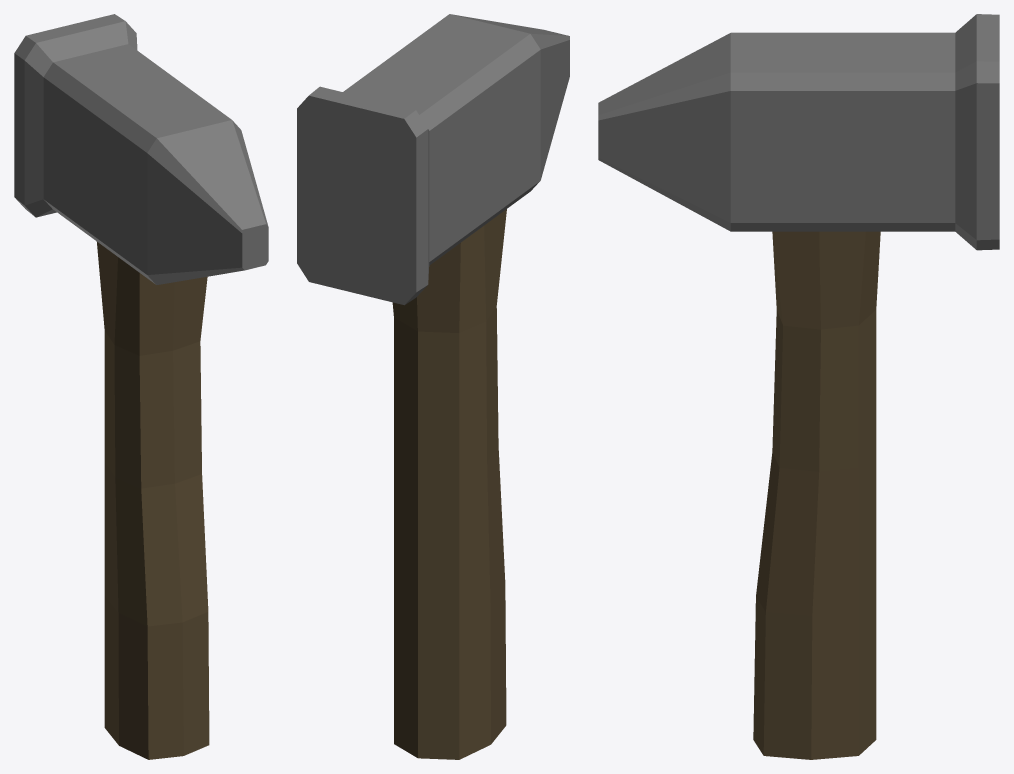
Rendered from hammer.fbx.
3 views of the same model, side by side, from view 1: azimuth 30°, elevation 25°; view 2: azimuth 150°, elevation 25°; view 3: azimuth 270°, elevation 25° (orthographic). The views are drawn at different scales.
Parts seen in each view (by area): view 1: Cube.002; view 2: Cube.002; view 3: Cube.002.
Part boxes in pixels (x1,y1,x2,y2): Cube.002: [14, 14, 268, 759]; Cube.002: [297, 14, 569, 759]; Cube.002: [598, 14, 999, 759].
Size of the model in its own units: 0.106 by 0.5866 by 0.3039.
